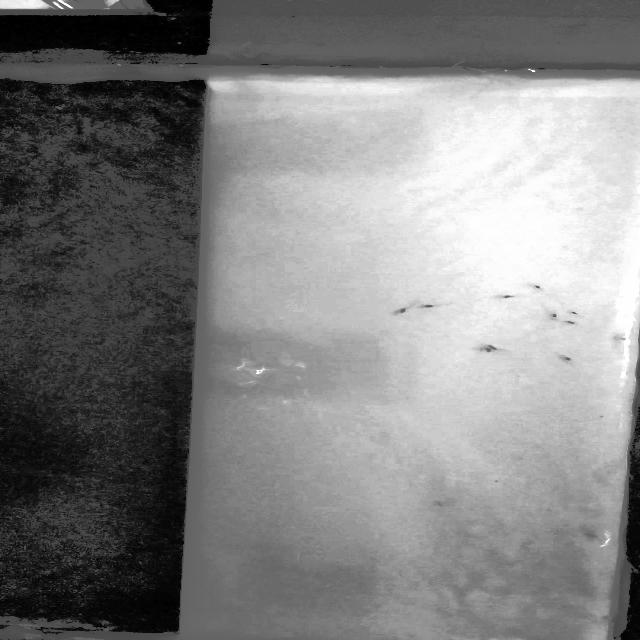shrimp: (480, 286, 523, 306), (474, 339, 502, 357), (385, 304, 413, 321), (416, 299, 447, 314), (562, 349, 582, 368), (526, 279, 552, 292), (561, 316, 584, 328), (566, 307, 590, 317), (546, 308, 561, 320)
